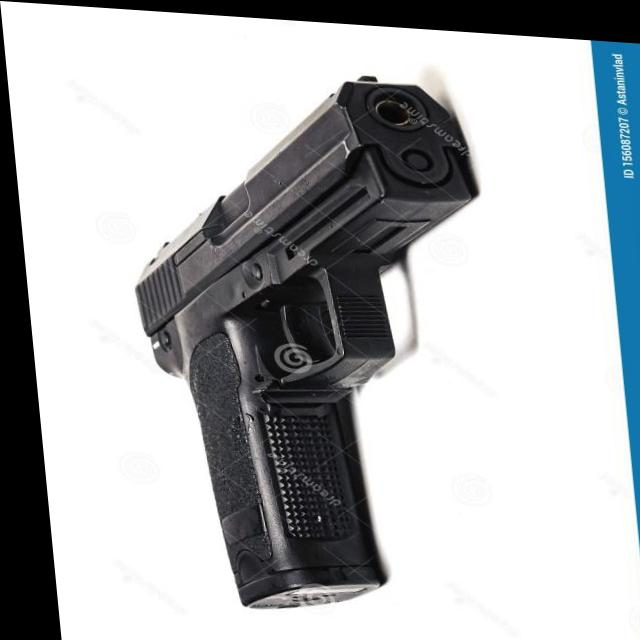handgun: (108, 57, 510, 619)
